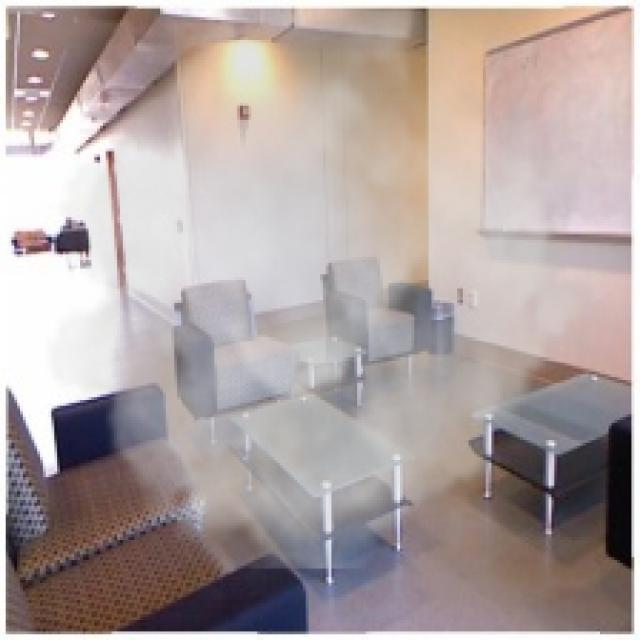Smoke: (45, 9, 606, 568)
